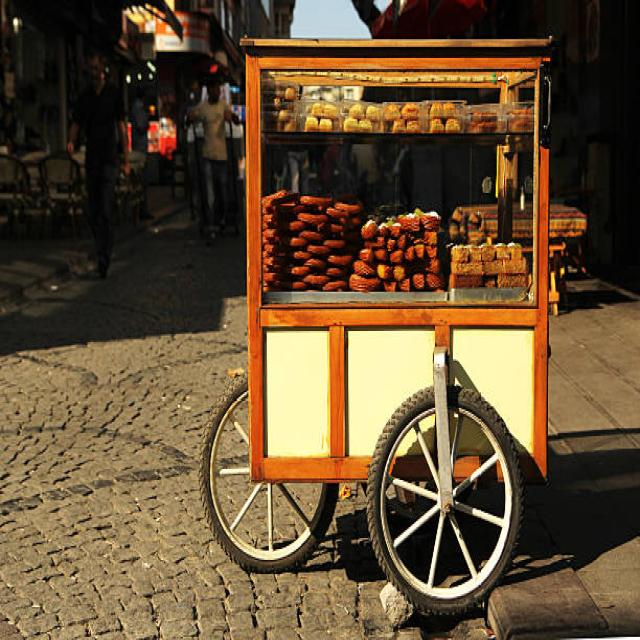Emperan: (193, 26, 592, 625)
